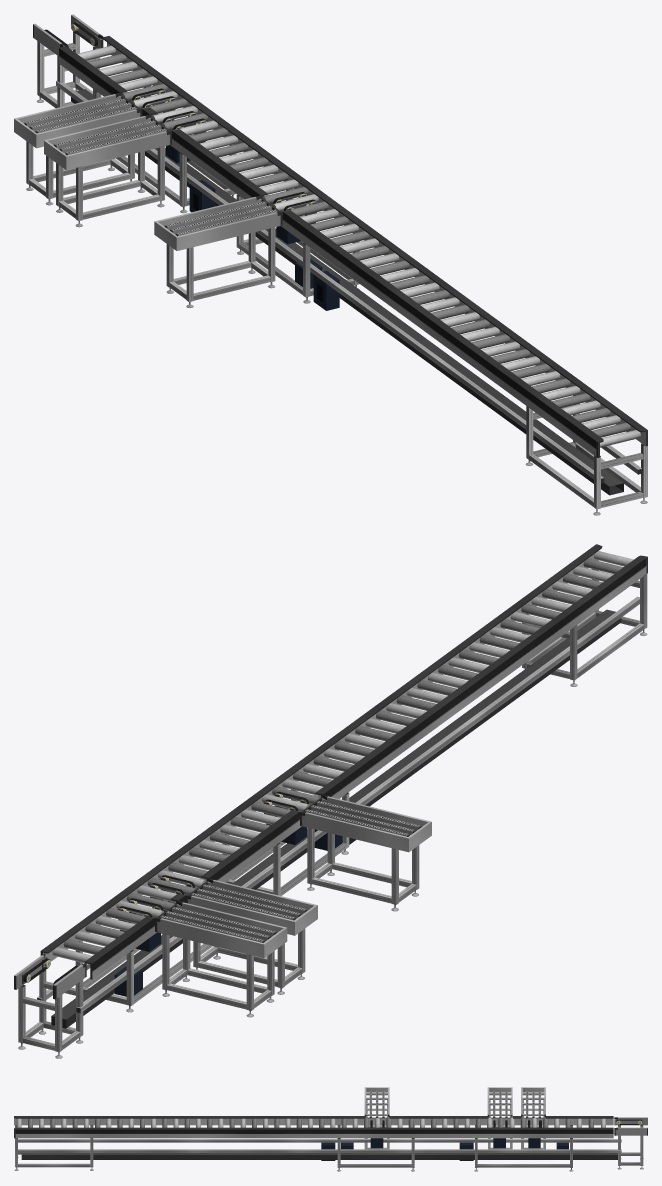
3 renders of one model, top to bottom at view 1: azimuth 30°, elevation 25°; view 2: azimuth 150°, elevation 25°; view 3: azimuth 270°, elevation 25°, orthographic. The views are drawn at different scales.
Parts seen in each view (by area): view 1: polySurface487, JSLG_ChuanShuXian_GunTong_mo; view 2: polySurface487, JSLG_ChuanShuXian_GunTong_mo; view 3: polySurface487, JSLG_ChuanShuXian_GunTong_mo.
Boxes of the visible parts, left/top/right/bottom form: polySurface487: left=14, top=14, right=647, bottom=515; JSLG_ChuanShuXian_GunTong_mo: left=77, top=45, right=640, bottom=447; polySurface487: left=14, top=544, right=647, bottom=1058; JSLG_ChuanShuXian_GunTong_mo: left=52, top=551, right=633, bottom=964; polySurface487: left=14, top=1087, right=647, bottom=1171; JSLG_ChuanShuXian_GunTong_mo: left=16, top=1118, right=605, bottom=1127.
Size of the model in its own units: 165 by 72.9 by 1019.
